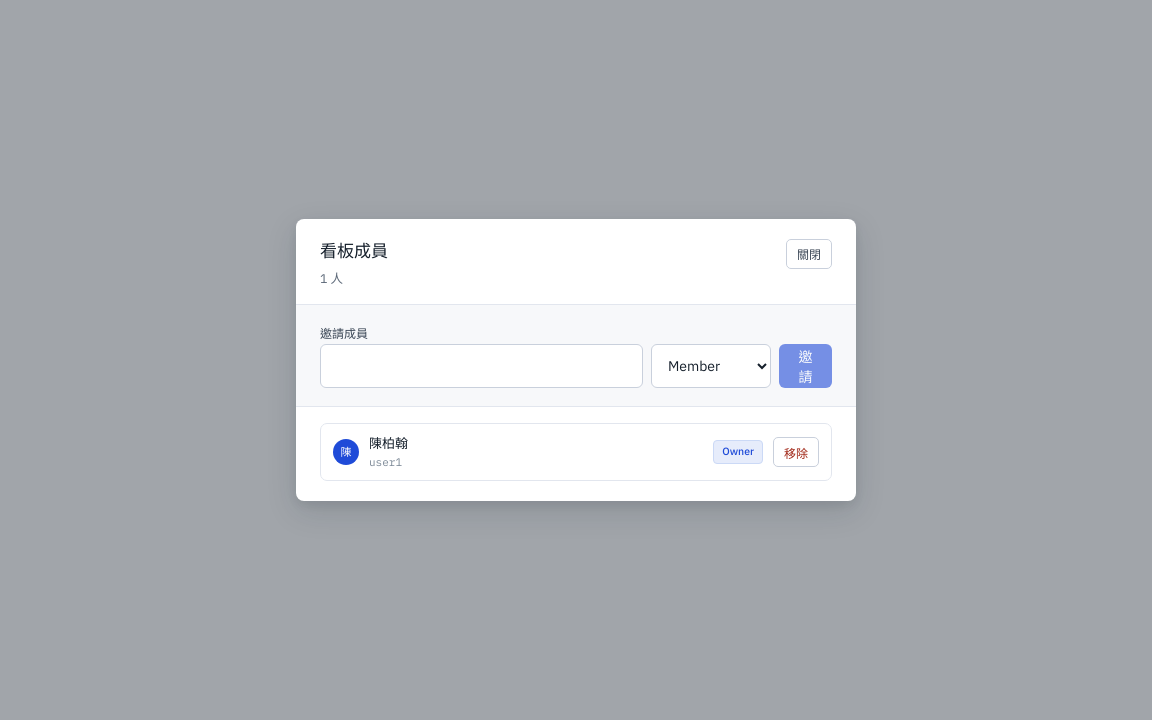
s-member-management › Owner 邀請系統中存在且非現有成員的帳號後，成員清單新增一筆、成員數加 1
Expected: the text "1 人" is shown, [320,270,343,286]
In the field labelled "邀請成員": x=481, y=366 [320,344,643,388], type "yating"
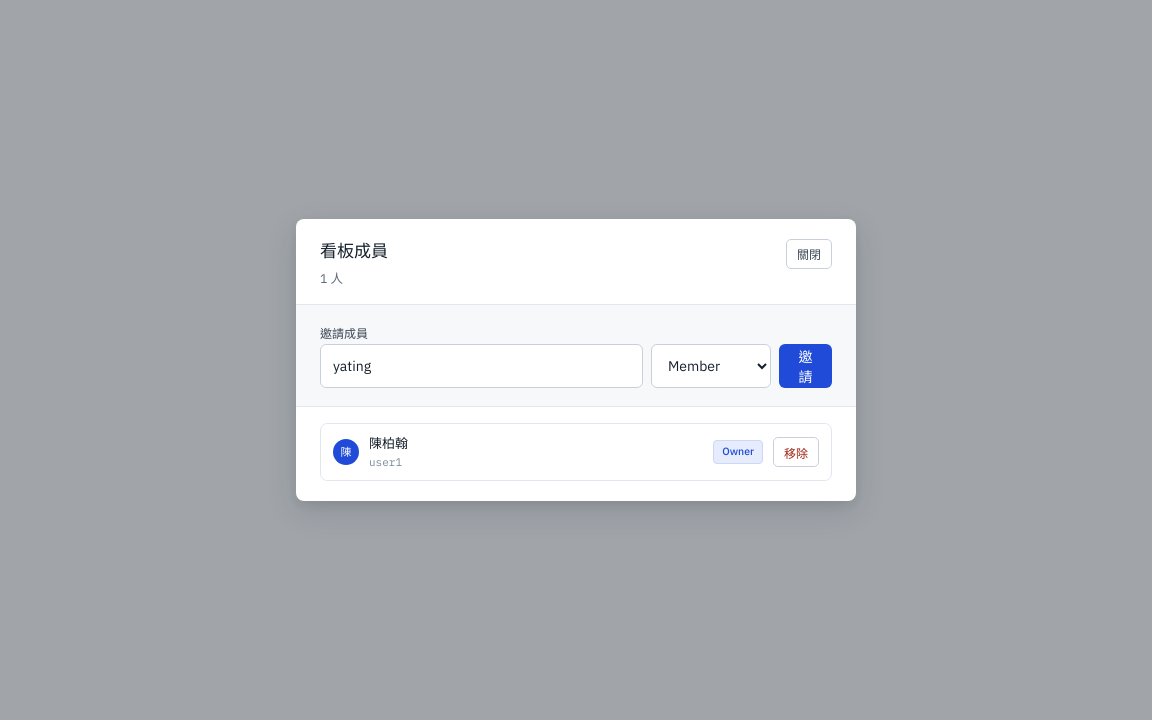
Click the button "邀請": x=805, y=366 [779,344,832,388]
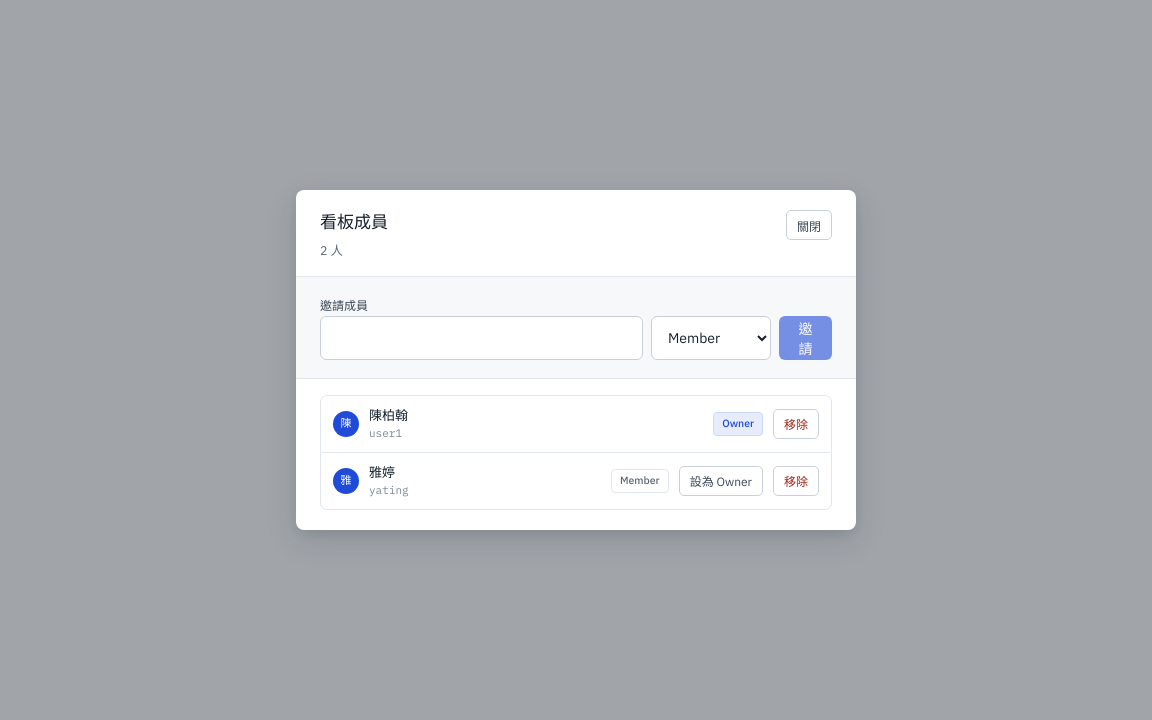
Expected: the text "2 人" is shown, [320,242,343,258]
Expected: the text "雅婷" is shown, [369,464,395,481]
